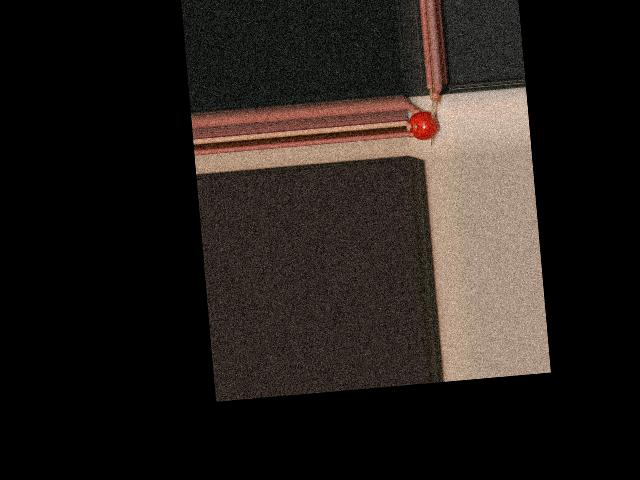tomato: (408, 110, 440, 141)
